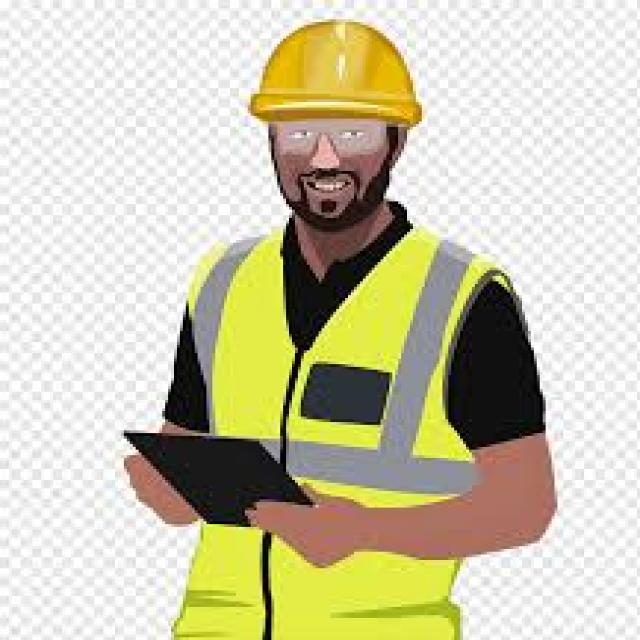Reflective-Jacket: (159, 218, 534, 640)
Safety-Helmet: (242, 14, 430, 132)
